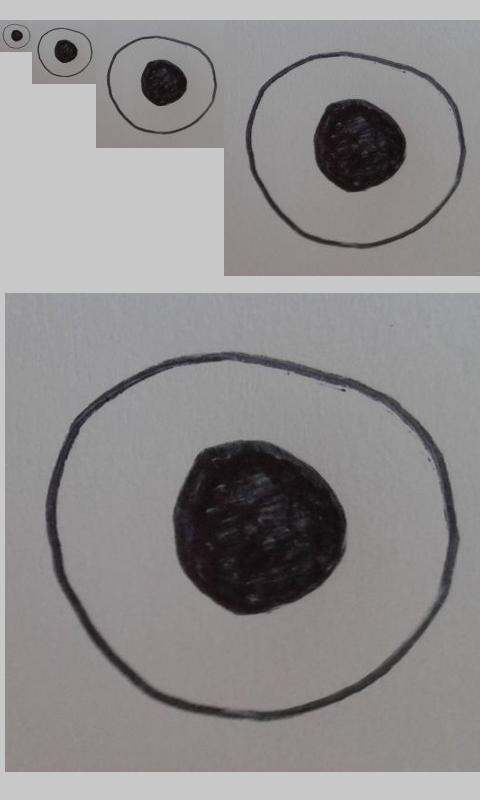radio_button: (40, 348, 462, 723), (242, 46, 469, 252), (105, 33, 219, 136), (36, 27, 93, 78), (2, 23, 31, 49)
